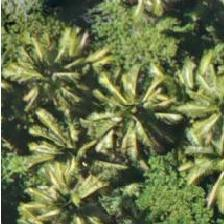coconut_tree: (90, 47, 180, 137), (0, 16, 78, 106), (32, 154, 122, 223), (174, 108, 223, 198)
